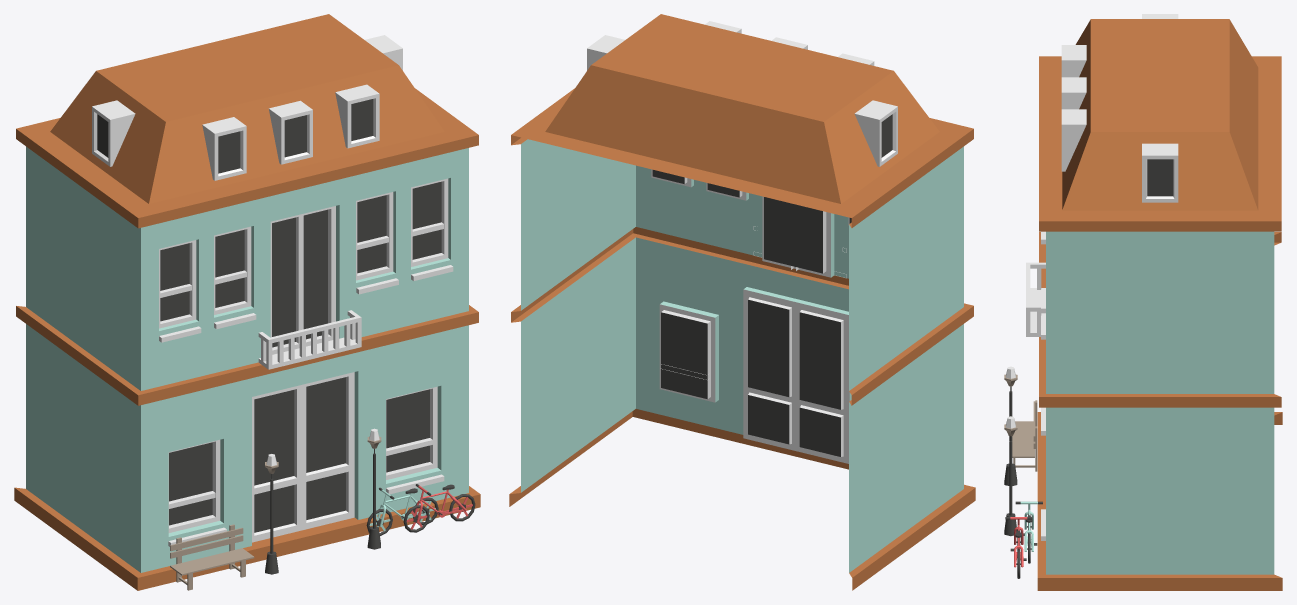
The model's file is building_4.fbx.
3 renders of one model, left to right at view 1: azimuth 30°, elevation 25°; view 2: azimuth 150°, elevation 25°; view 3: azimuth 270°, elevation 25°, orthographic.
Parts seen in each view (by area): view 1: building_4; view 2: building_4; view 3: building_4.
Boxes of the visible parts, x1,y1,x2,y2 form: building_4: [14, 14, 480, 590]; building_4: [509, 14, 975, 590]; building_4: [1004, 14, 1282, 590].
Size of the model in its own units: 627 by 762 by 444.
1 material, 1 textured.
